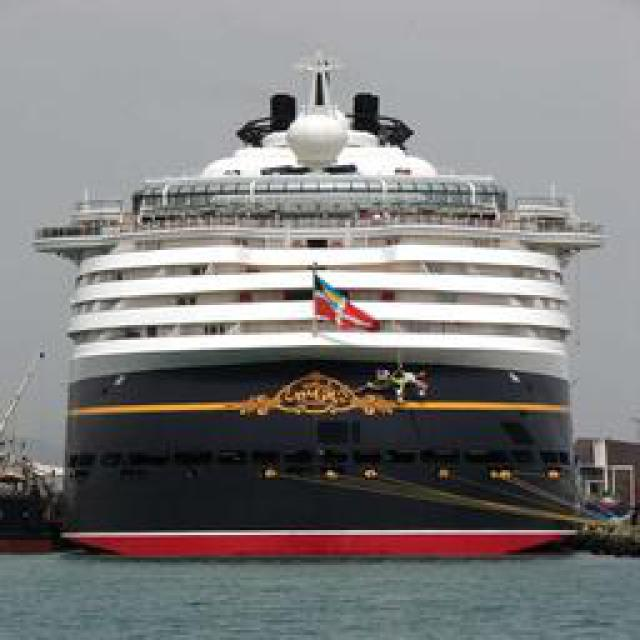Ship: (20, 87, 602, 555)
